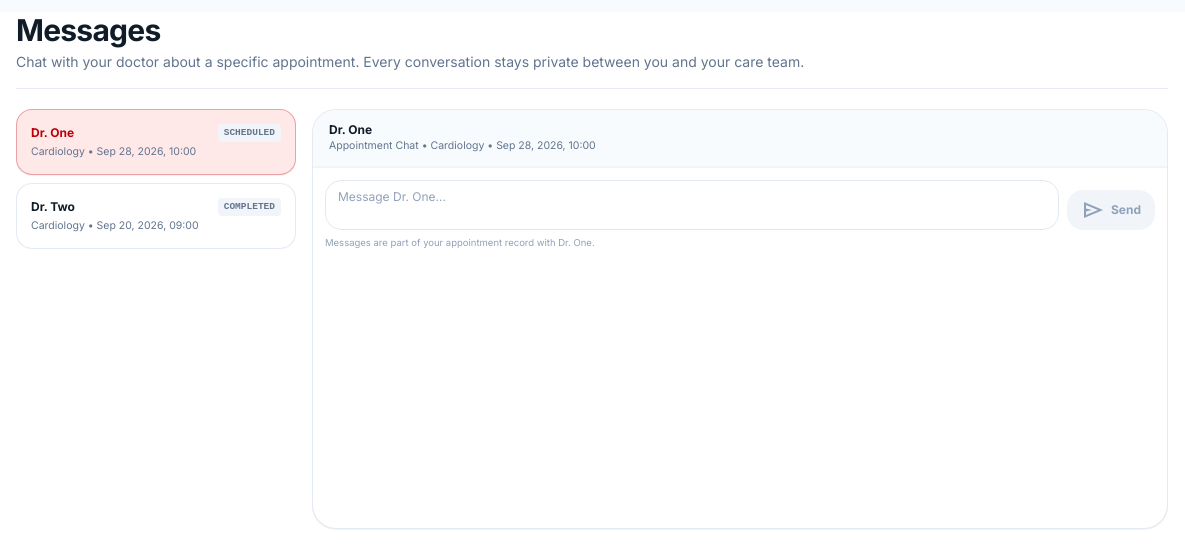
Test: AppointmentChatScreen › surfaces send failures without clearing the draft
Type "Hello" into the text box labelled "Message Dr. One…" at (692,205), box top-left (325, 180), bottom-right (1059, 230)
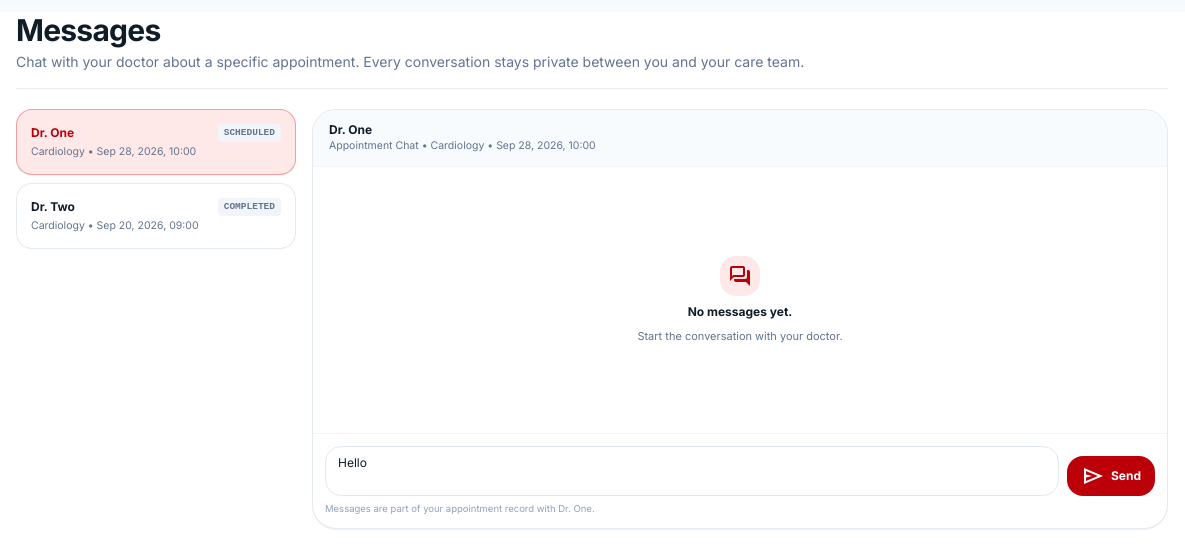
Click the button with aria-label "send message" at (1111,476), box top-left (1067, 456), bottom-right (1155, 496)
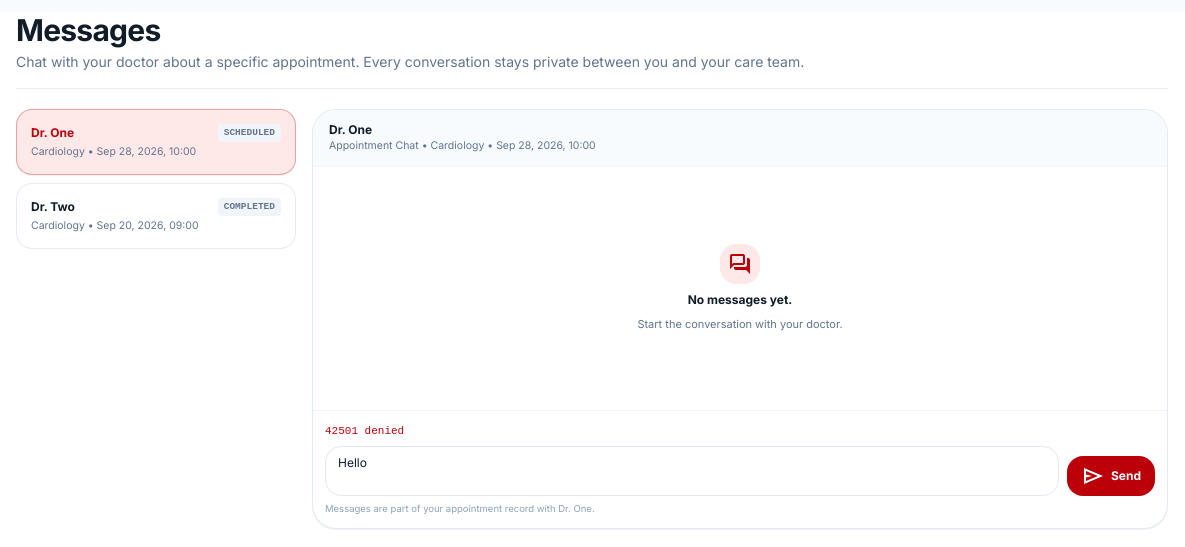
Now the text "42501 denied" is shown, box top-left (325, 425), bottom-right (404, 437)
